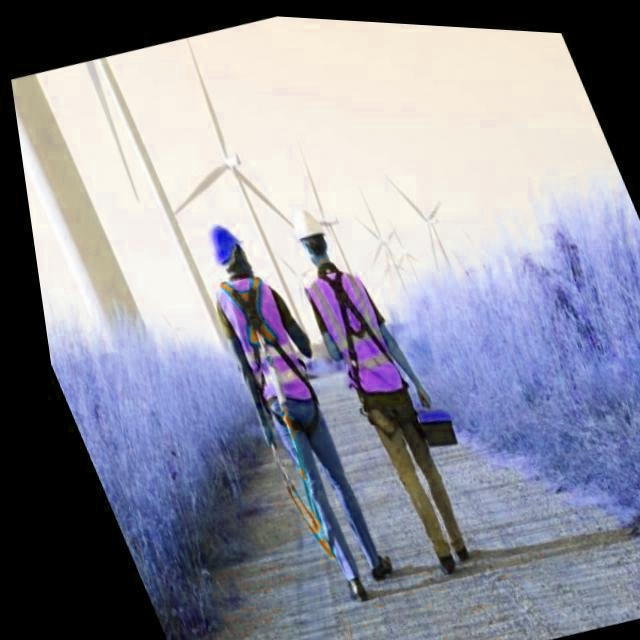safety belt: (208, 278, 340, 438), (306, 269, 449, 416)
